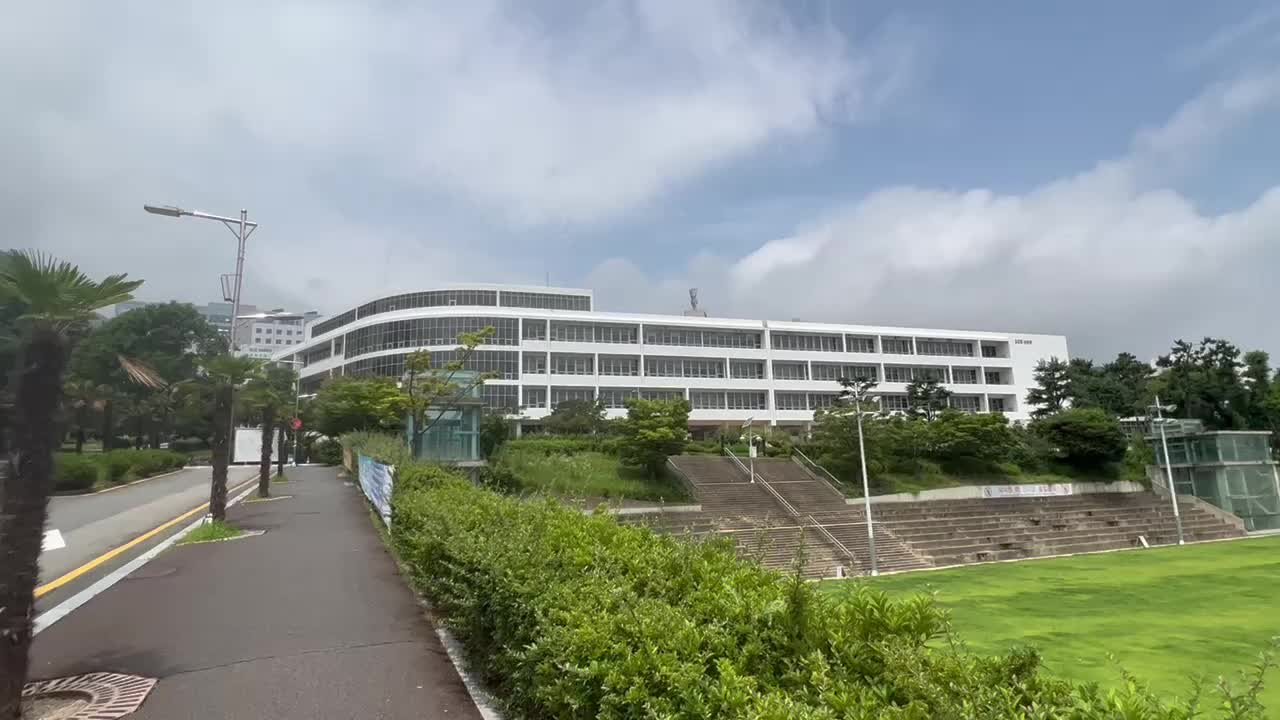low: (347, 278, 1019, 383)
